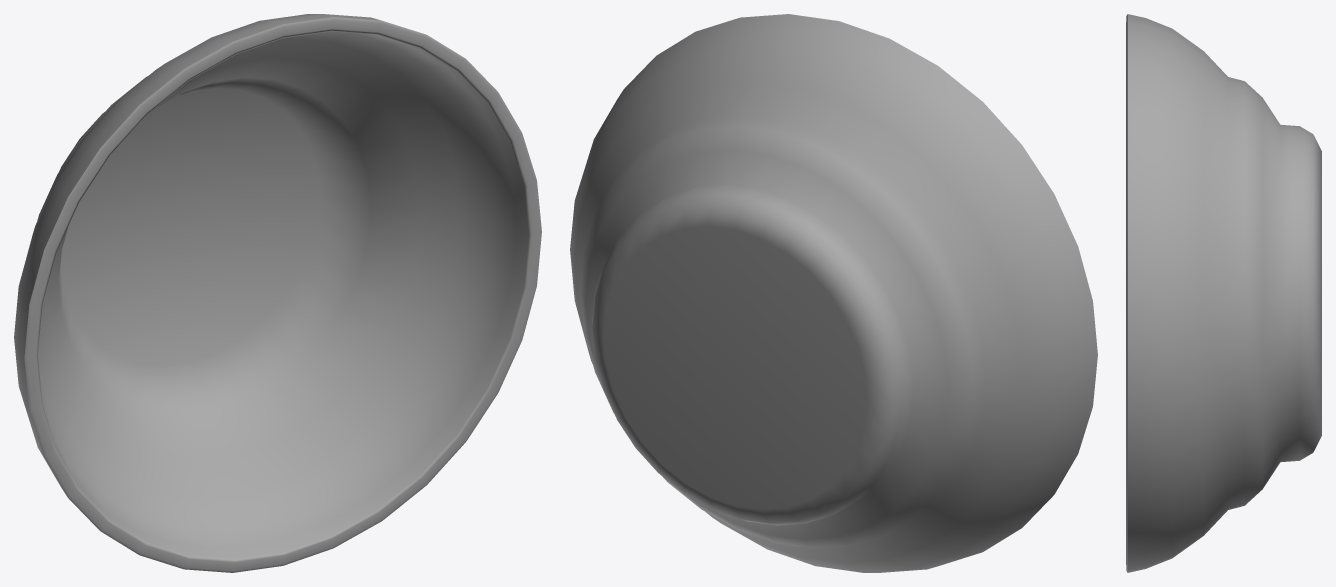
The model's file is MeshBowl_24_0_GeomSubset_0.obj.
3 views of the same model, side by side, from view 1: azimuth 30°, elevation 25°; view 2: azimuth 150°, elevation 25°; view 3: azimuth 270°, elevation 25° (orthographic). The views are drawn at different scales.
Parts seen in each view (by area): view 1: MeshBowl_24_0_GeomSubset_0; view 2: MeshBowl_24_0_GeomSubset_0; view 3: MeshBowl_24_0_GeomSubset_0.
Part boxes in pixels (bbox=[...]): MeshBowl_24_0_GeomSubset_0: bbox=[14, 14, 541, 572]; MeshBowl_24_0_GeomSubset_0: bbox=[570, 14, 1097, 572]; MeshBowl_24_0_GeomSubset_0: bbox=[1126, 14, 1321, 572].
Bounding box in the file's own units: 0.1946 × 0.1946 × 0.0681.
